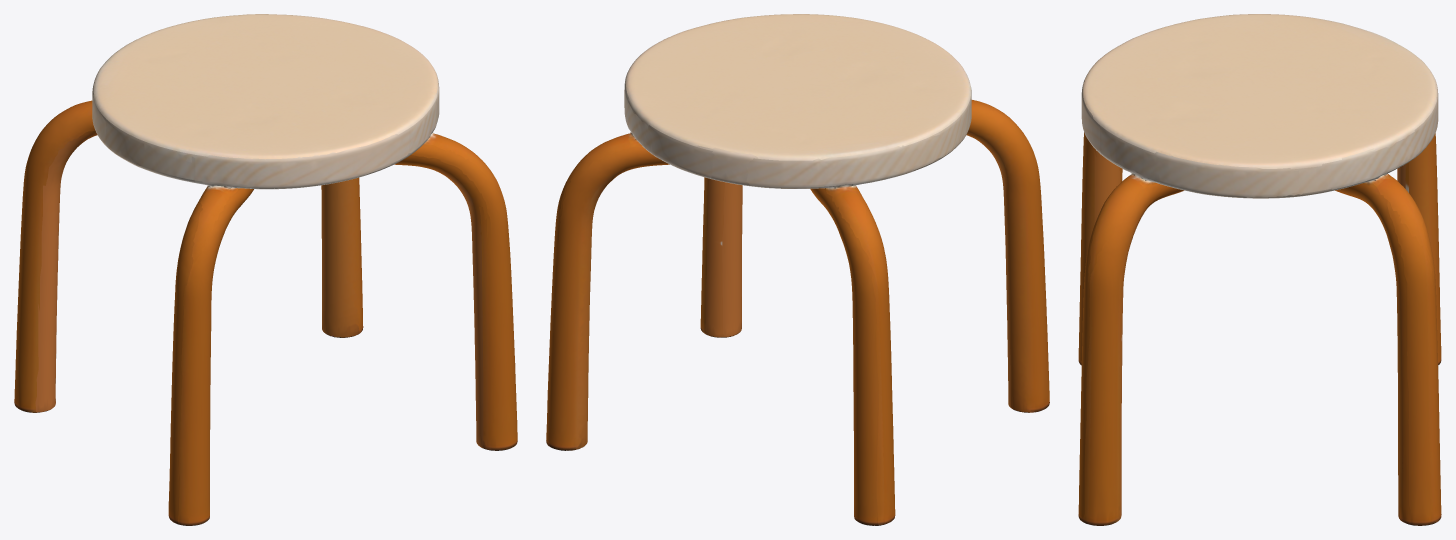
File: stool__stool#5.glb
3 renders of one model, left to right at view 1: azimuth 30°, elevation 25°; view 2: azimuth 150°, elevation 25°; view 3: azimuth 270°, elevation 25°, orthographic. The views are drawn at different scales.
Parts seen in each view (by area): view 1: tmpqsftn3kb.ply; view 2: tmpqsftn3kb.ply; view 3: tmpqsftn3kb.ply.
Part boxes in pixels (x1,y1,x2,y2): tmpqsftn3kb.ply: [14, 14, 517, 525]; tmpqsftn3kb.ply: [546, 14, 1049, 525]; tmpqsftn3kb.ply: [1078, 14, 1441, 525].
Bounding box in the file's own units: 1.99 × 1.88 × 1.76.
1 material, 1 textured.
